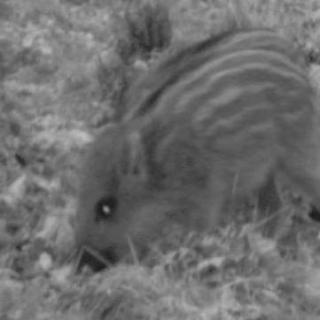Pig: (56, 11, 320, 259)
